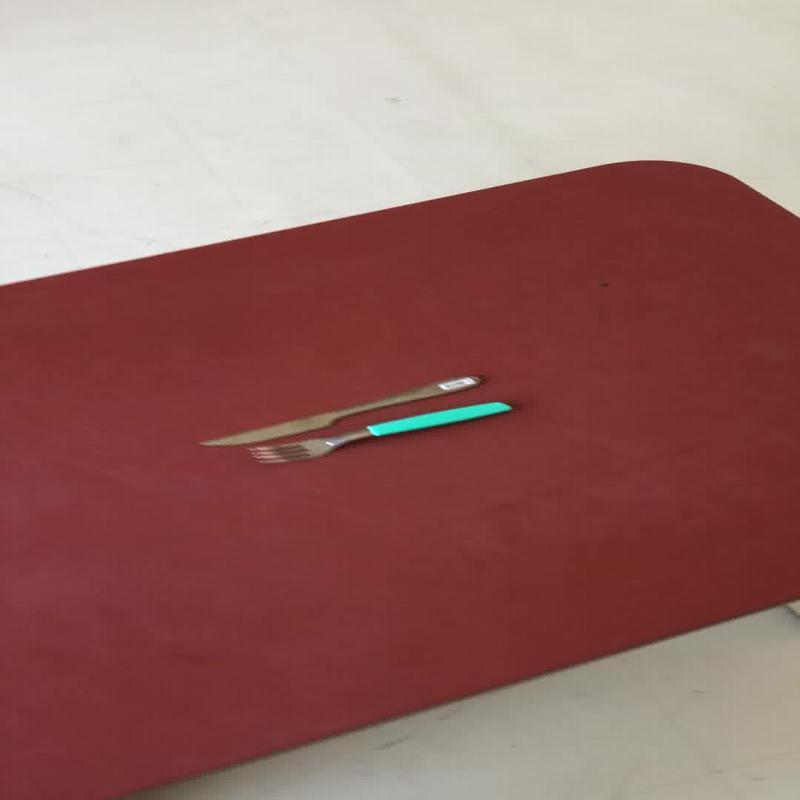fork: (243, 400, 513, 464)
knife: (196, 374, 484, 448)
